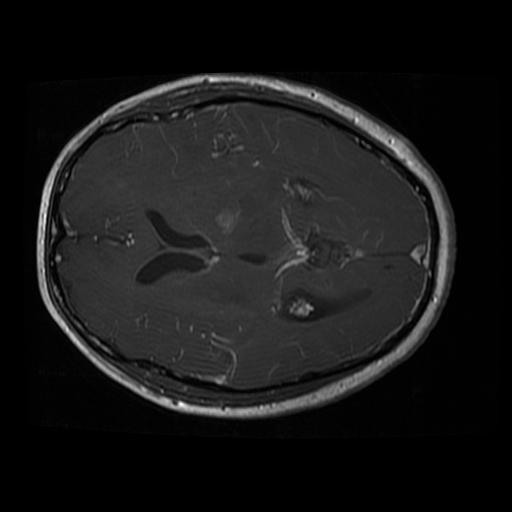glioma: (213, 197, 242, 234)
